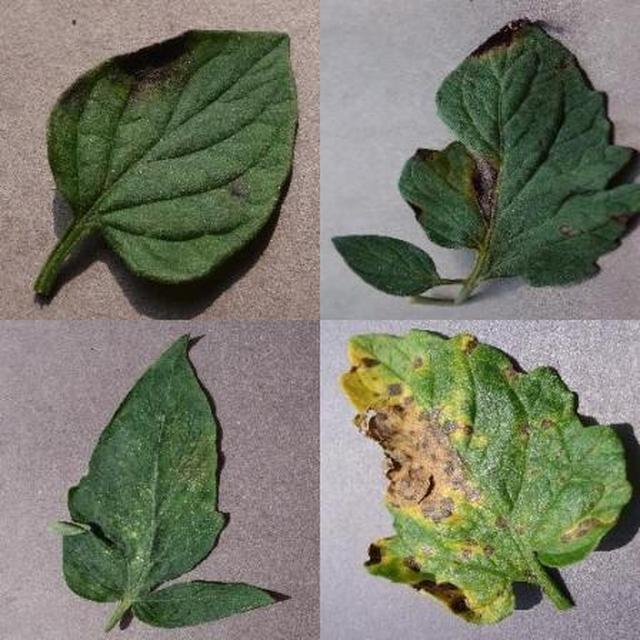Late Blight Leaf: (229, 216, 640, 640)
